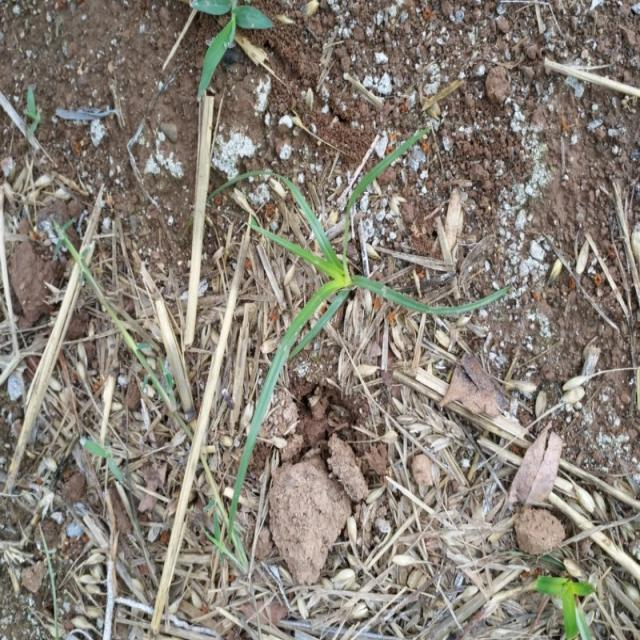sedge: (190, 146, 480, 493)
